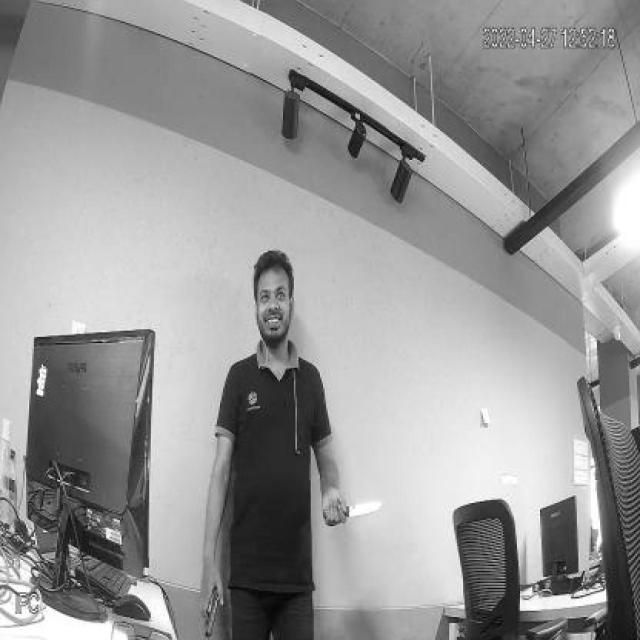weapon: (200, 581, 222, 639)
